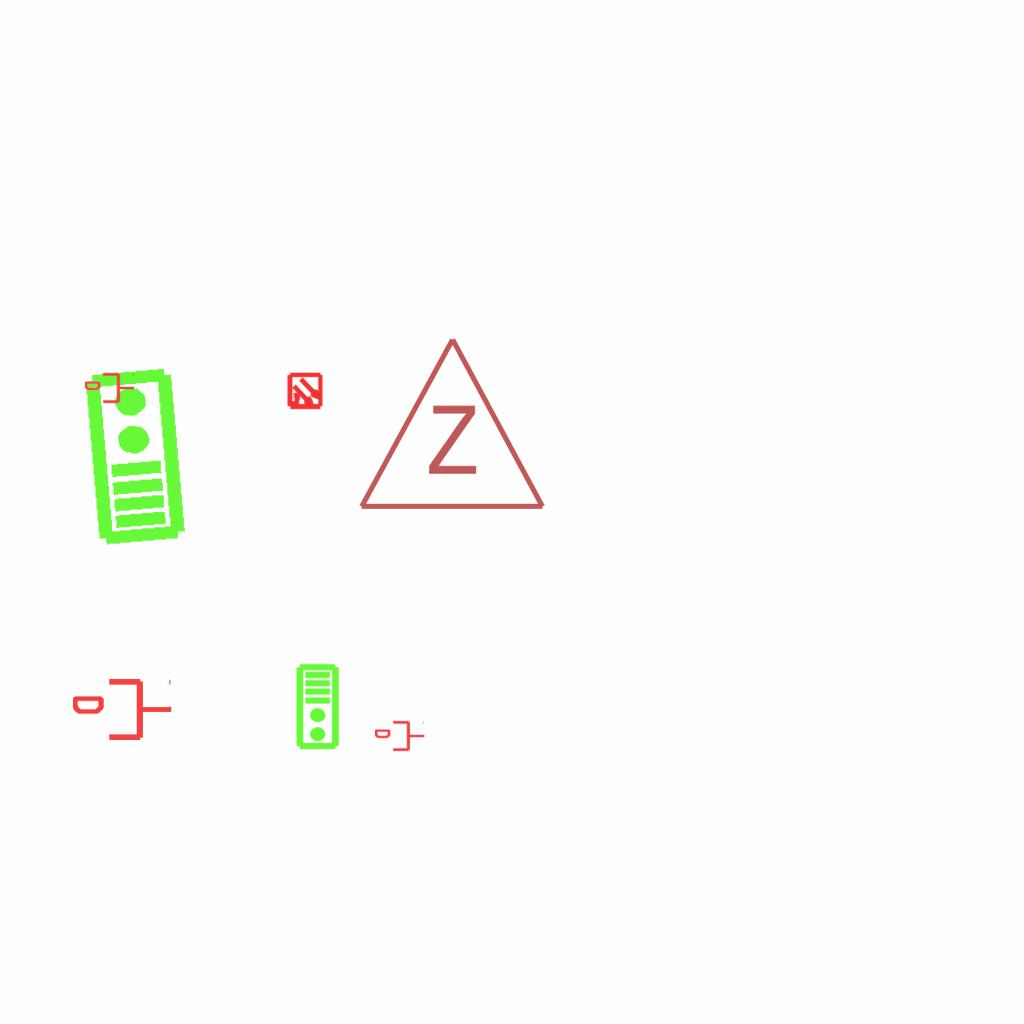Datenanschluss_einfach: (73, 675, 173, 744), (375, 719, 425, 753), (85, 371, 135, 405)
Gegensprechanlage_mit_Video: (78, 364, 189, 548), (295, 663, 342, 751)
OT_Multisensormelder_(Kombination_RMO_WMD): (277, 364, 333, 420)
Zimmersignalleuchte: (352, 324, 548, 524)
